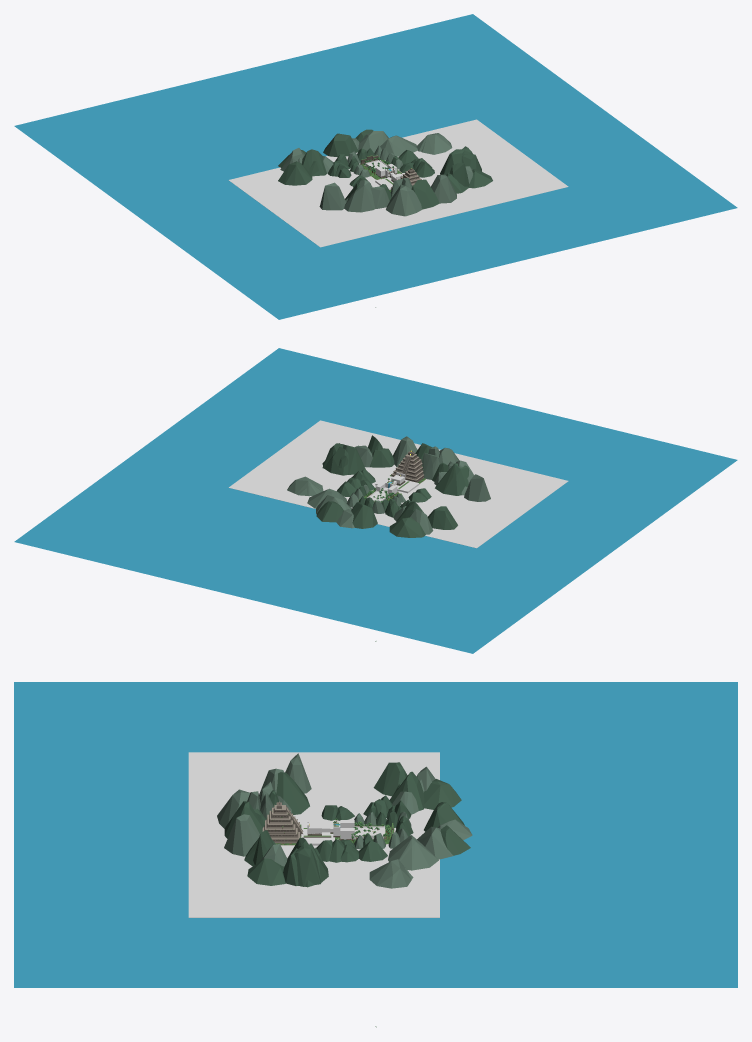
Rendered from zona_1_selva.glb.
The picture shows the model from 3 angles, top to bottom: view 1: azimuth 30°, elevation 25°; view 2: azimuth 150°, elevation 25°; view 3: azimuth 270°, elevation 25°; orthographic projection. The views are drawn at different scales.
Parts seen in each view (by area): view 1: agua_lago, trg_box_lago, selva_escenario; view 2: agua_lago, trg_box_lago, selva_escenario; view 3: agua_lago, trg_box_lago, selva_escenario.
Boxes of the visible parts, x1,y1,x2,y2 form: agua_lago: [14, 14, 737, 319]; trg_box_lago: [228, 119, 568, 247]; selva_escenario: [278, 129, 492, 216]; agua_lago: [14, 348, 737, 653]; trg_box_lago: [228, 420, 568, 548]; selva_escenario: [287, 435, 490, 537]; agua_lago: [14, 682, 737, 987]; trg_box_lago: [188, 752, 439, 917]; selva_escenario: [217, 753, 472, 888].
Size of the model in its own units: 1700 by 589 by 1700.
